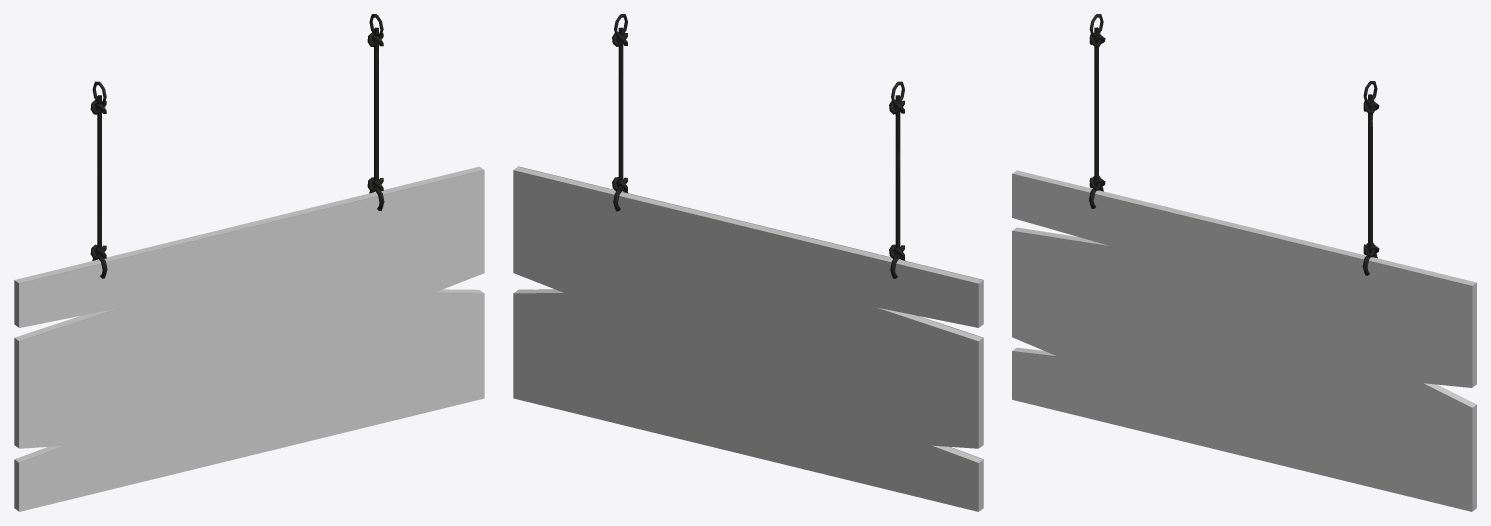
The model's file is KB3D_DMZ_Sign_C.fbx.
The picture shows the model from 3 angles, left to right: view 1: azimuth 30°, elevation 25°; view 2: azimuth 150°, elevation 25°; view 3: azimuth 330°, elevation 25°; orthographic projection.
Visible parts, largest first — view 1: KB3D_DMZ_Sign_C_Main; view 2: KB3D_DMZ_Sign_C_Main; view 3: KB3D_DMZ_Sign_C_Main.
Boxes of the visible parts, x1,y1,x2,y2 form: KB3D_DMZ_Sign_C_Main: [14, 14, 484, 511]; KB3D_DMZ_Sign_C_Main: [513, 14, 983, 511]; KB3D_DMZ_Sign_C_Main: [1012, 14, 1476, 511].
Bounding box in the file's own units: 144 × 121 × 7.5.
